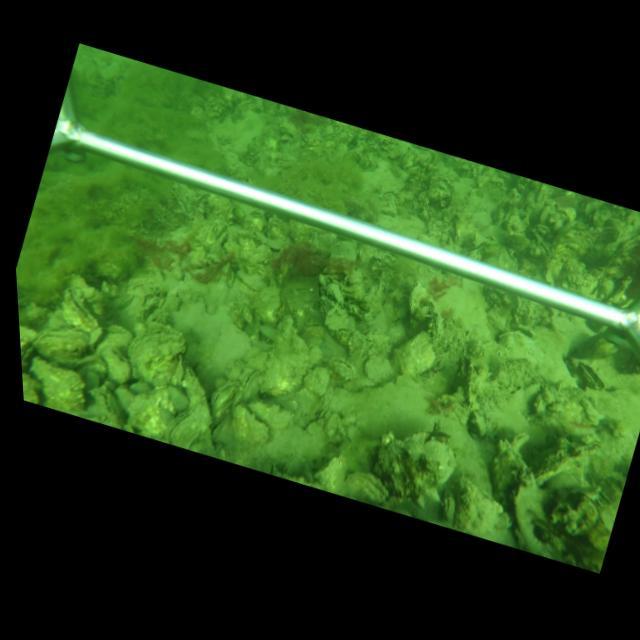Oyster-Closed: (125, 326, 187, 385), (163, 385, 212, 447), (21, 325, 93, 360), (60, 288, 101, 331), (87, 385, 120, 429), (406, 280, 426, 316), (239, 369, 259, 400), (440, 490, 454, 526), (326, 281, 344, 305)
Oyster-Indeterminate: (258, 314, 312, 398), (30, 356, 87, 413), (392, 330, 438, 378), (463, 240, 518, 275), (231, 404, 271, 446), (361, 355, 397, 382)
Oyster-Open: (577, 364, 606, 394)
